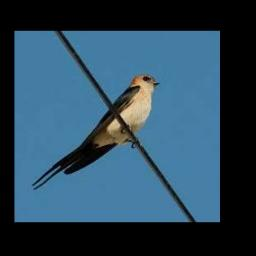Swallow: (31, 74, 161, 191)
